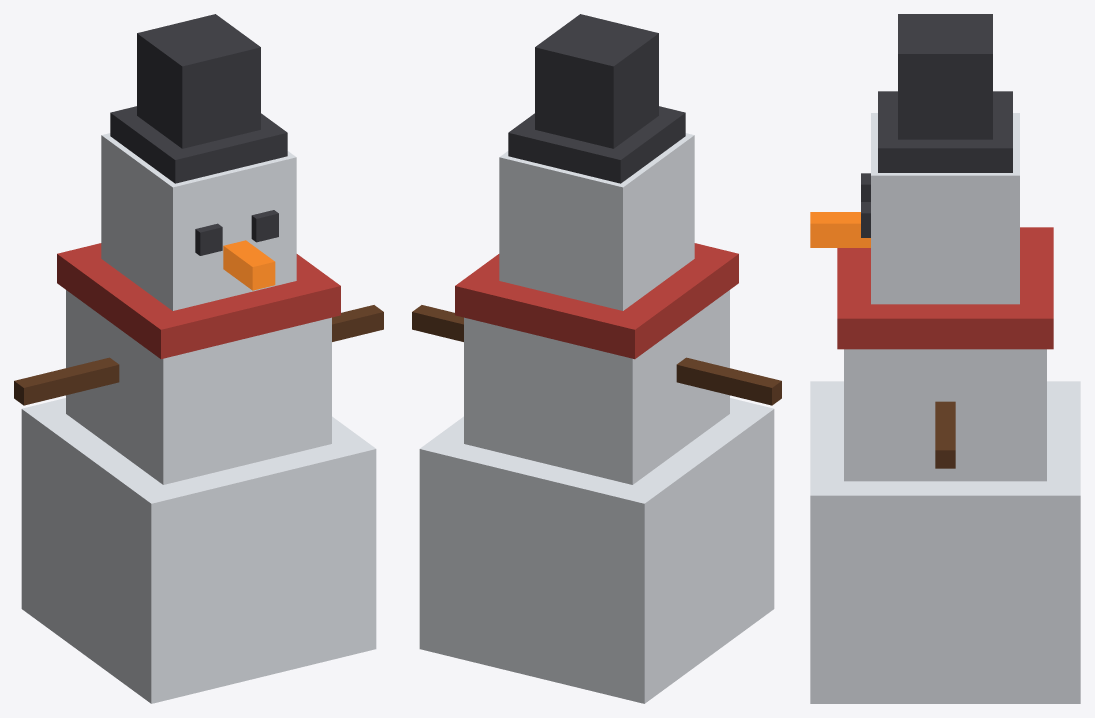
File: Snowman.glb
3 renders of one model, left to right at view 1: azimuth 30°, elevation 25°; view 2: azimuth 150°, elevation 25°; view 3: azimuth 270°, elevation 25°, orthographic. The views are drawn at different scales.
Visible parts, largest first — view 1: Snowman; view 2: Snowman; view 3: Snowman.
Boxes of the visible parts, x1=… form: Snowman: x1=14, y1=14, x2=383, y2=703; Snowman: x1=412, y1=14, x2=781, y2=703; Snowman: x1=810, y1=14, x2=1080, y2=703.
Size of the model in its own units: 6.4 by 10 by 4.
Materials: 2 (2 with a texture image).
